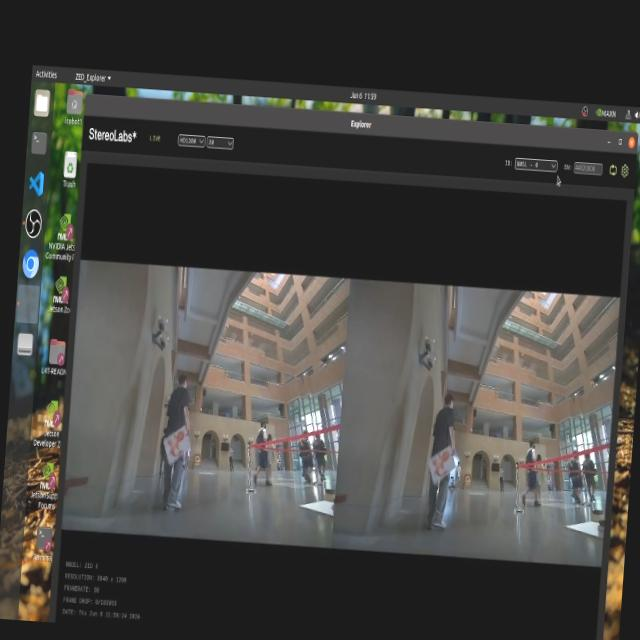red: (434, 445, 454, 481), (168, 429, 188, 459)
